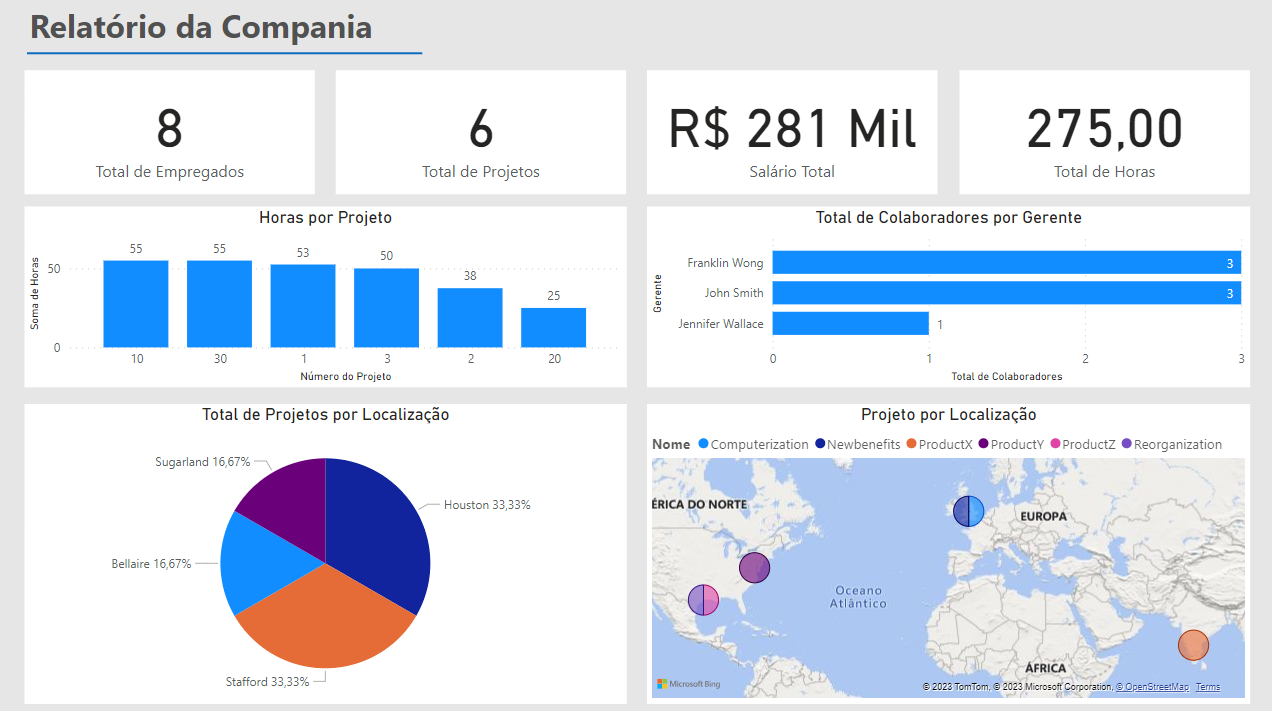

The dashboard page shown, as its layout file describes it:
{"tool":"powerbi","page":{"name":"Página 1","canvas":[1280,720],"ordinal":0},"visuals":[{"type":"barChart","title":"Total de Colaboradores por Gerente","fields":{"Category":["Colaborador x Gerente.Nome do Grerente"],"Y":["Colaborador x Gerente.Nome"]},"box":[650,208,603.4,180.9],"z":0},{"type":"textbox","box":[27.1,0,507.8,65.9],"z":1000},{"type":"clusteredColumnChart","title":"Horas por Projeto","fields":{"Y":["azure_company works_on.Horas"],"Category":["azure_company works_on.Número do Projeto"]},"box":[27.1,208,602.1,180.9],"z":2000},{"type":"card","fields":{"Values":["azure_company employee.Salário"]},"box":[650,71.1,290.7,124],"z":3000},{"type":"card","fields":{"Values":["azure_company works_on.Horas"]},"box":[962.7,71.1,290.7,124],"z":4000},{"type":"card","fields":{"Values":["azure_company employee.Ssn"]},"box":[27.1,71.1,290.7,124],"z":5000},{"type":"card","fields":{"Values":["azure_company project.Nome"]},"box":[338.5,71.1,290.7,124],"z":6000},{"type":"pieChart","title":"Total de Projetos por Localização","fields":{"Category":["azure_company project.Localização"],"Y":["azure_company project.Nome"]},"box":[27.1,404.4,602.1,299.8],"z":6001},{"type":"map","title":"Projeto por Localização","fields":{"Category":["azure_company project.Localização"],"Series":["azure_company project.Nome"]},"box":[650,404.4,603.4,299.8],"z":6002},{"type":"shape","box":[29.7,0,395.4,108.5],"z":6003}]}

Visuals, with their boxes in screenshot pixels (x1, y1, x2, y2), scaled from the page's 1280x720 canvas onto the 1272x711 screenshot:
"Total de Colaboradores por Gerente" barChart: 646 205 1246 384
textbox: 27 0 532 65
"Horas por Projeto" clusteredColumnChart: 27 205 625 384
card - azure_company employee.Salário: 646 70 935 193
card - azure_company works_on.Horas: 957 70 1246 193
card - azure_company employee.Ssn: 27 70 316 193
card - azure_company project.Nome: 336 70 625 193
"Total de Projetos por Localização" pieChart: 27 399 625 695
"Projeto por Localização" map: 646 399 1246 695
shape: 30 0 422 107
